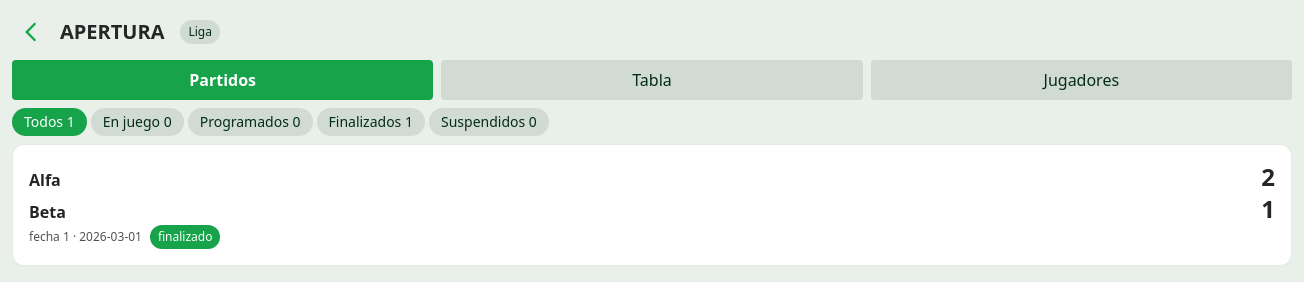
Test case: empty con accion › tab jugadores muestra % a la derecha de PP
Click the tab "Jugadores" at (1081, 80), box [871,60,1292,100]
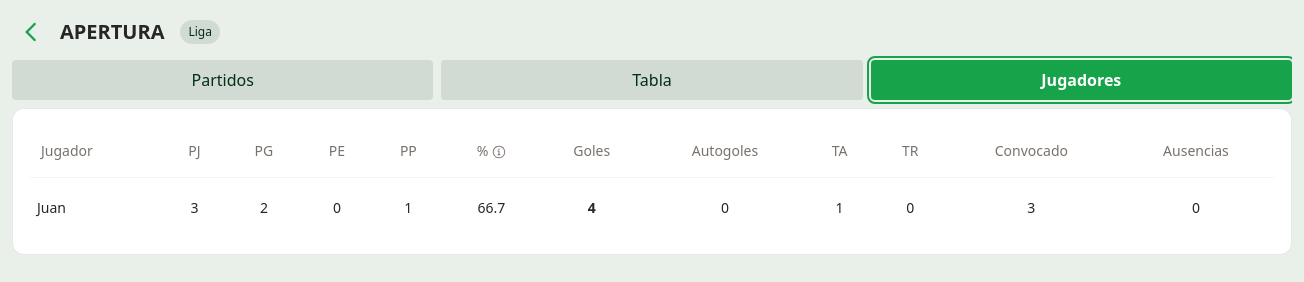
Now the text "66.7" is shown, box [444,178,538,238]
